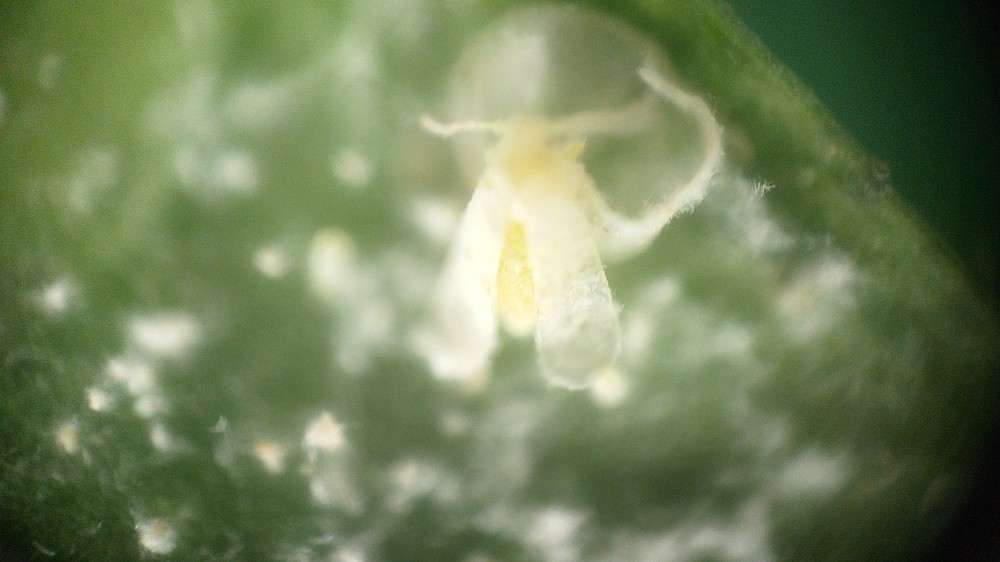Mosca Blanca: (371, 98, 672, 407)
